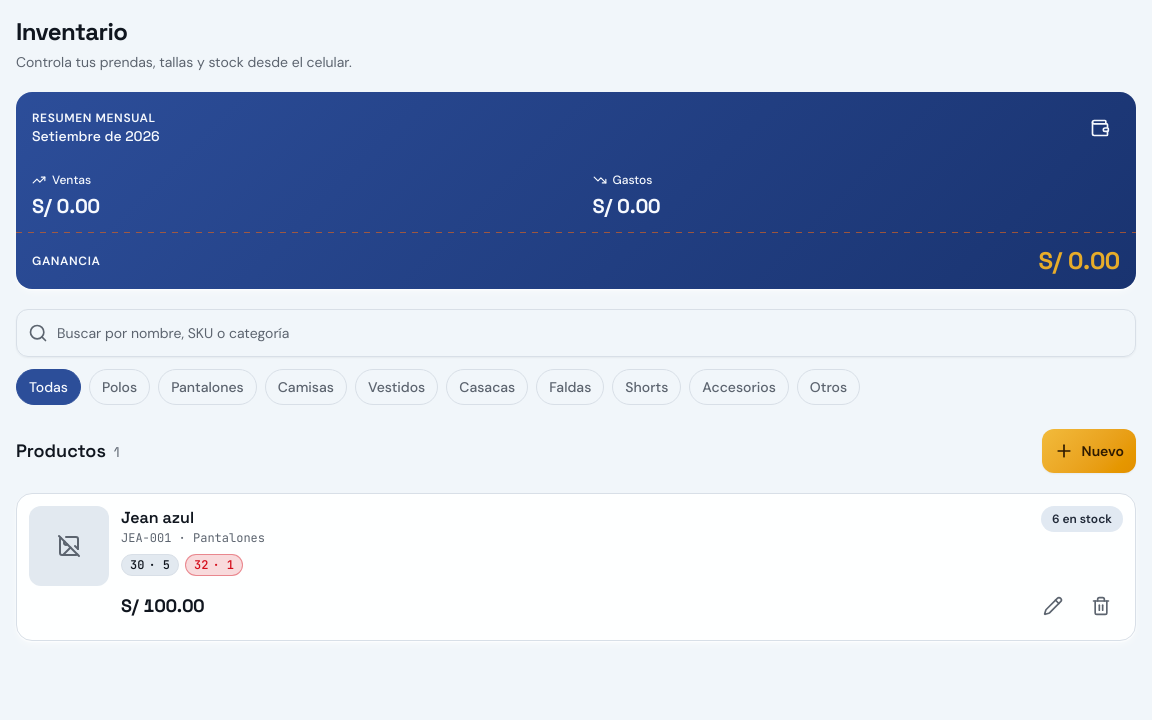
Test: Inventario › ajusta el stock de una talla con + y − en el formulario
Click the button with test id "inventario.open_modal_button".
click(1089, 451)  # box [1042, 429, 1136, 473]
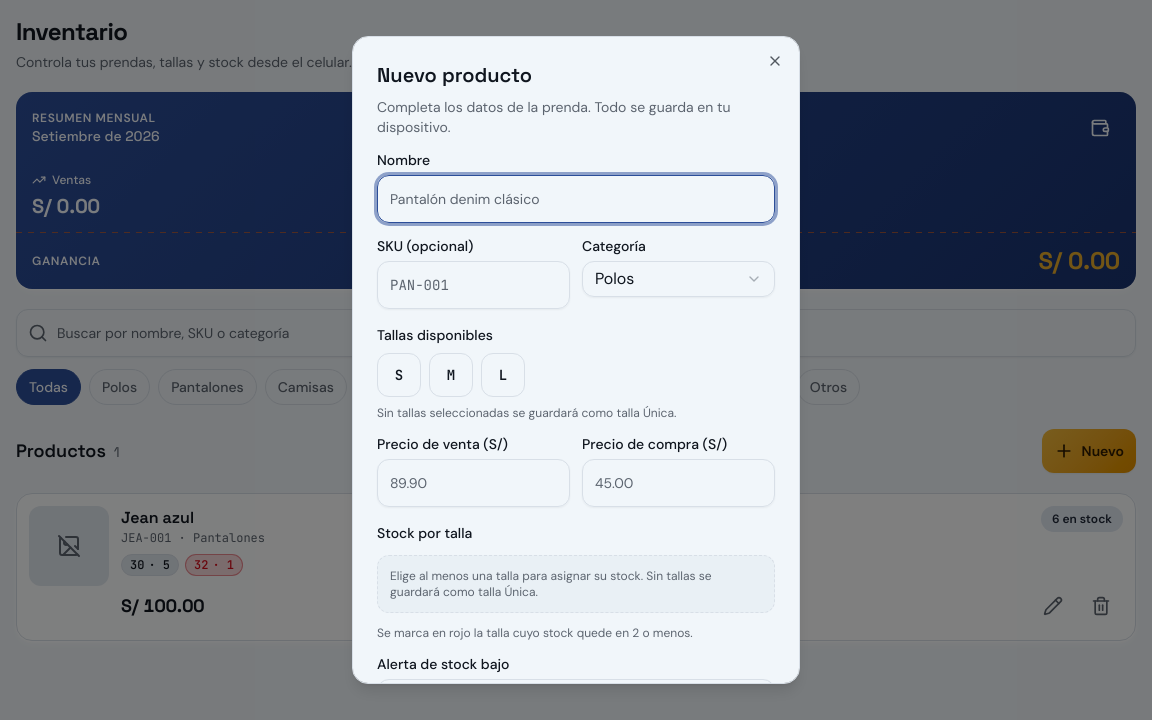
Type "Short" into the field with test id "inventario.nombre.input".
click(576, 199); type("Short")  # box [377, 175, 775, 223]
Type "50" into the field with test id "inventario.precio.input".
click(474, 483); type("50")  # box [377, 459, 570, 507]
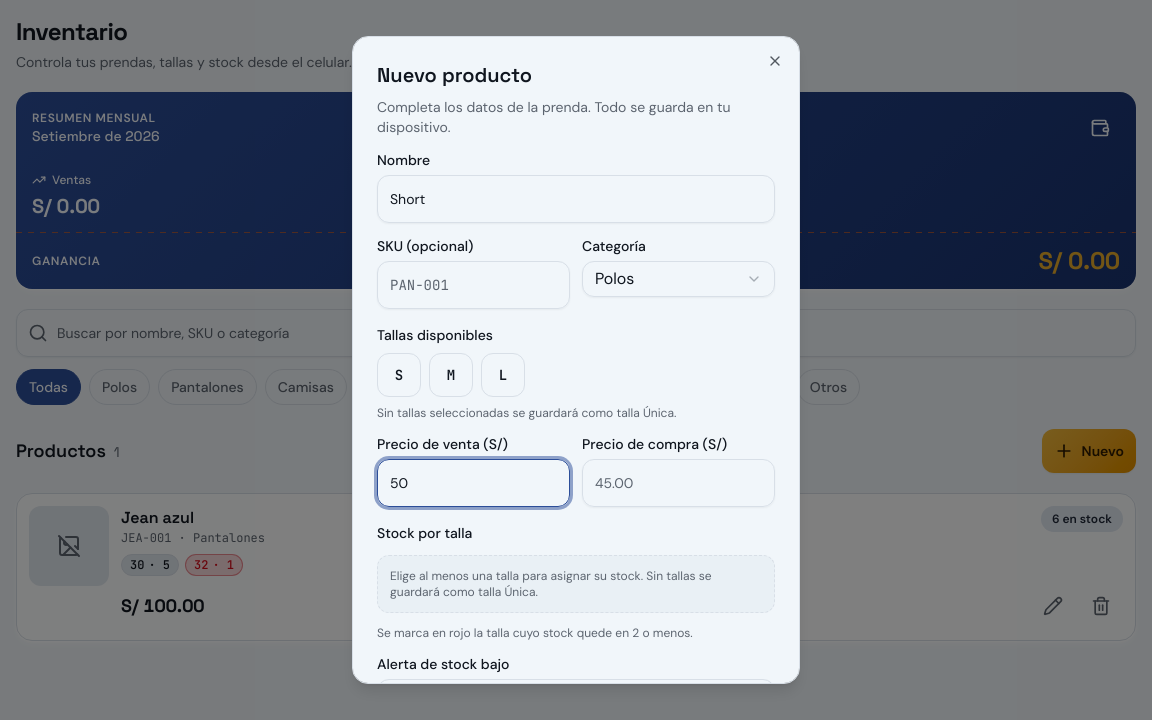
Click the button with test id "inventario.talla.toggle.S".
click(399, 375)  # box [377, 353, 421, 397]
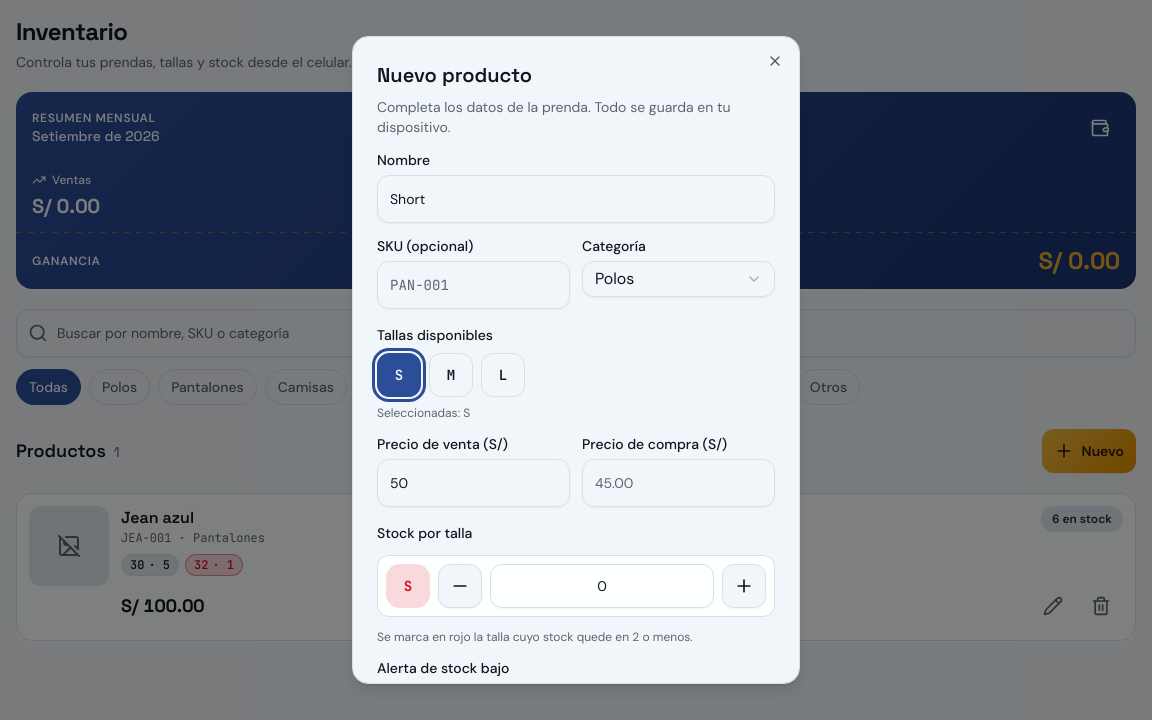
Expected: the field with test id "inventario.stock.input.S" holds "0", [490, 564, 714, 608]
Click the button with test id "inventario.stock_mas_button.S".
click(744, 586)  # box [722, 564, 766, 608]
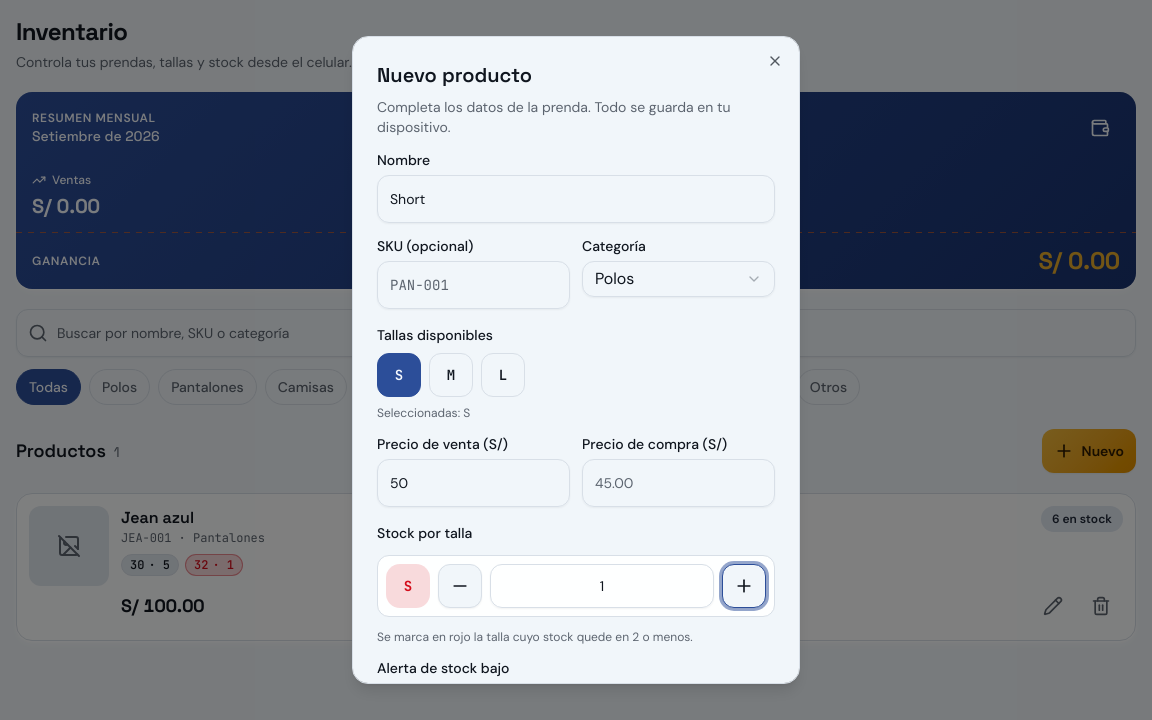
Expected: the field with test id "inventario.stock.input.S" holds "1", [490, 564, 714, 608]
Click the button with test id "inventario.stock_mas_button.S".
click(744, 586)  # box [722, 564, 766, 608]
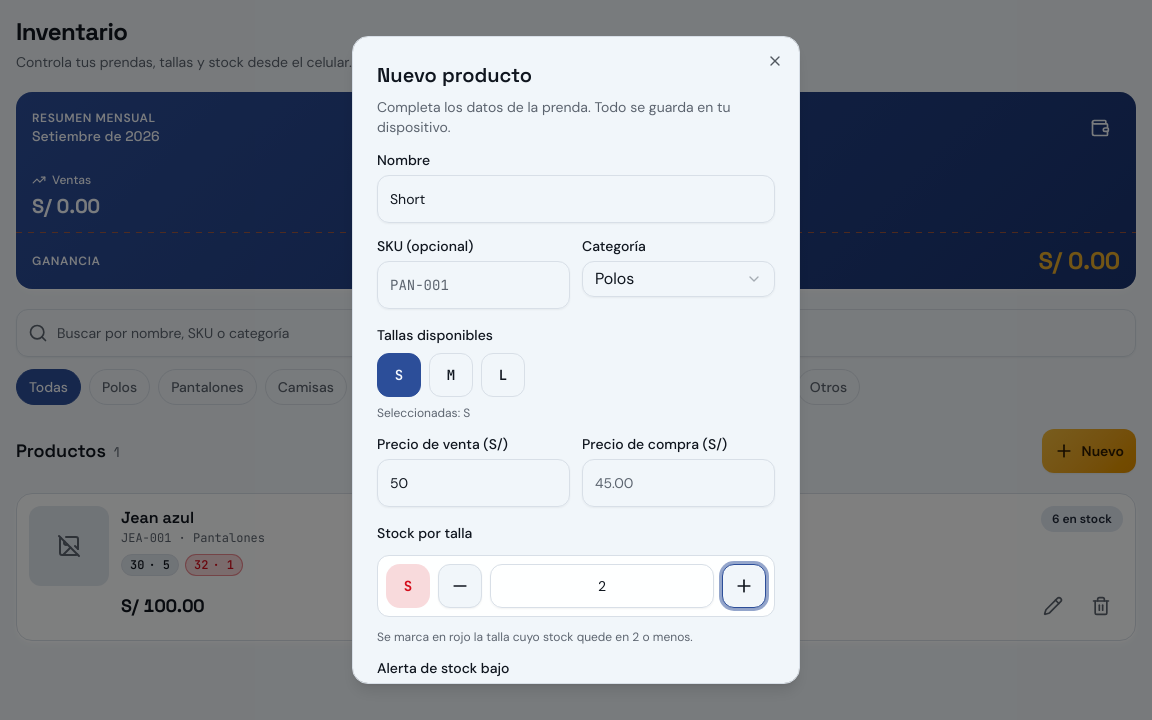
Expected: the field with test id "inventario.stock.input.S" holds "2", [490, 564, 714, 608]
Click the button with test id "inventario.stock_menos_button.S".
click(460, 586)  # box [438, 564, 482, 608]
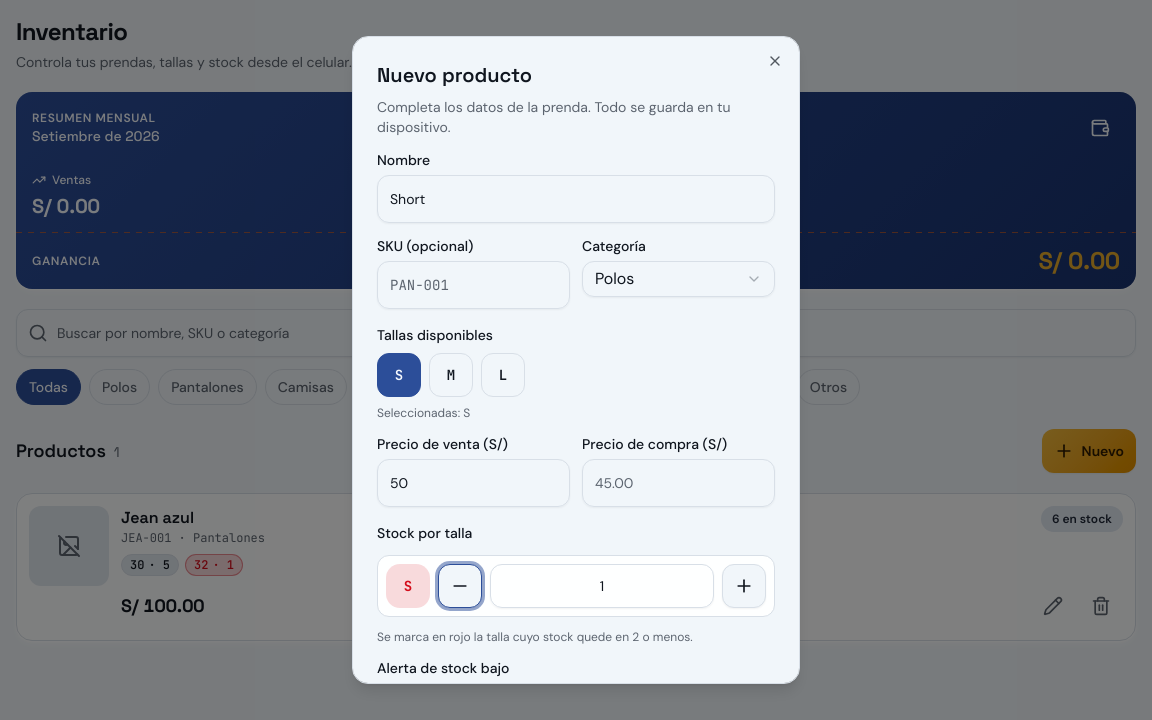
Expected: the field with test id "inventario.stock.input.S" holds "1", [490, 564, 714, 608]
